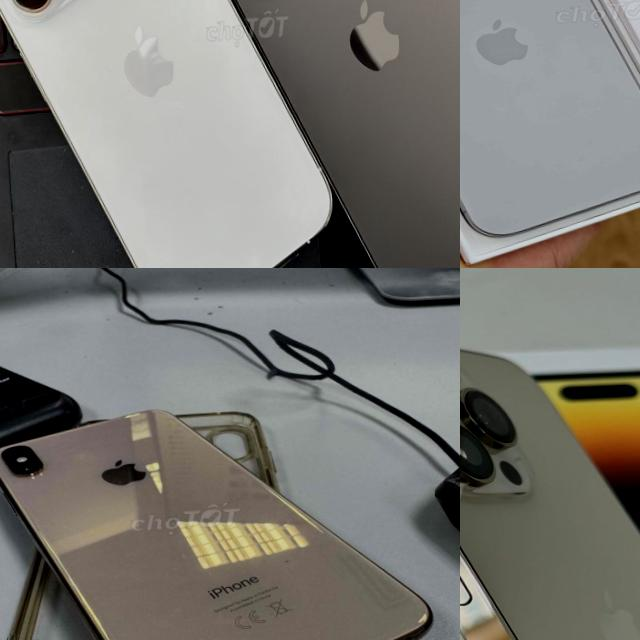scratch: (306, 621, 330, 640)
